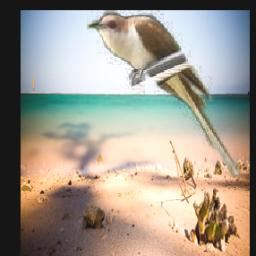Cuckoo: (87, 11, 241, 179)
